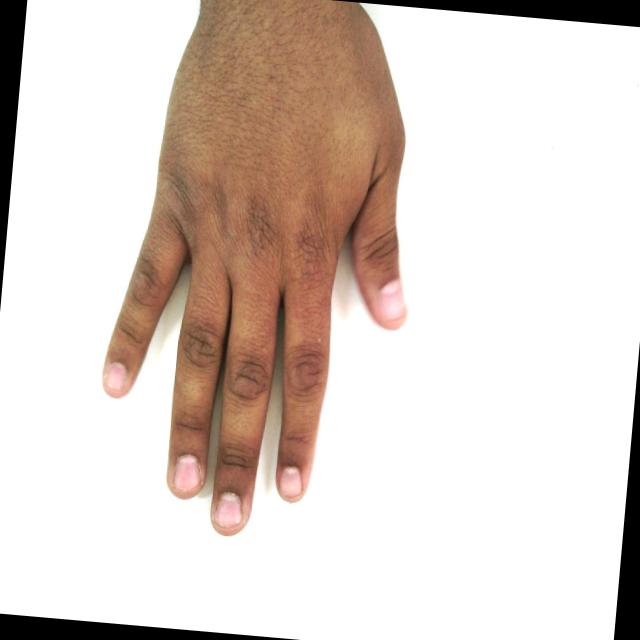Nail: (376, 278, 406, 321), (173, 454, 201, 490), (214, 493, 242, 527), (278, 466, 302, 498), (104, 362, 126, 390)
